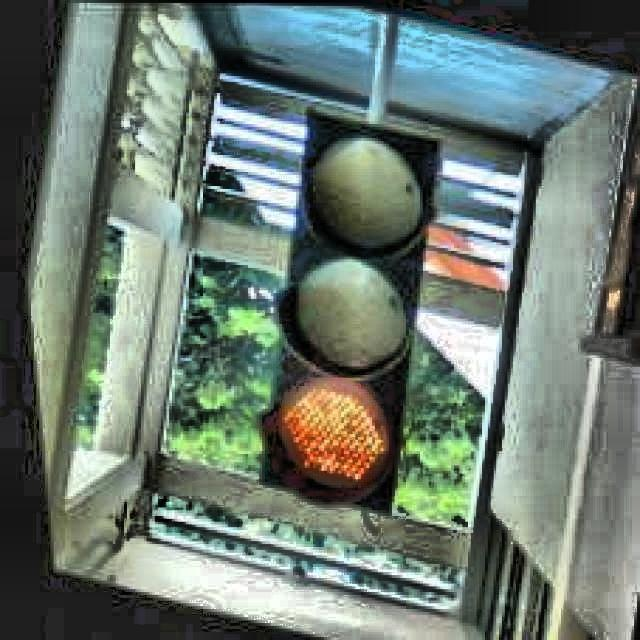red: (258, 100, 427, 517)
